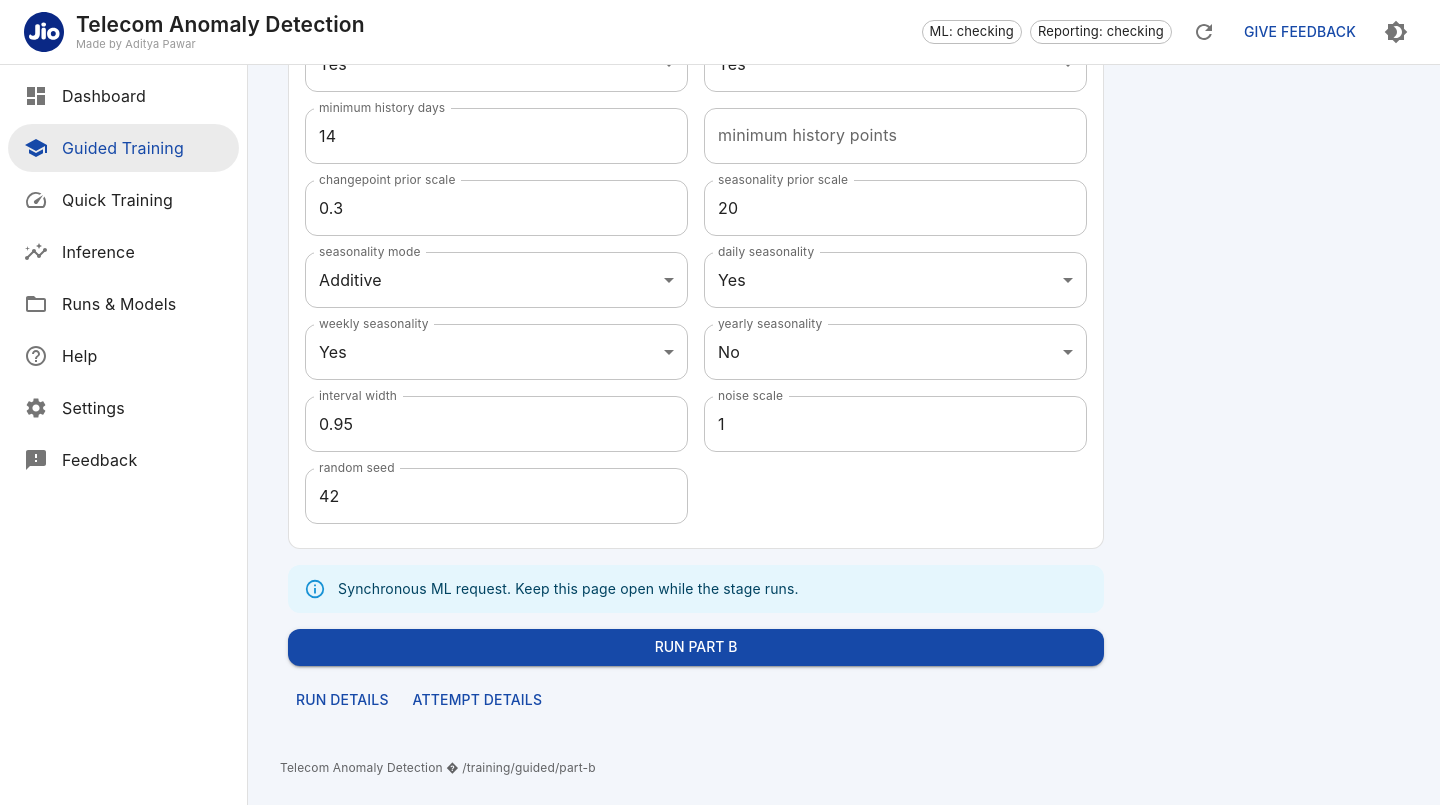
it: Part B workspace › does not continue after an HTTP-success failed workflow
(page scrolled)
Click the button "Run Part B".
click(696, 647)  # box x1=288 y1=629 x2=1104 y2=666
(page scrolled)
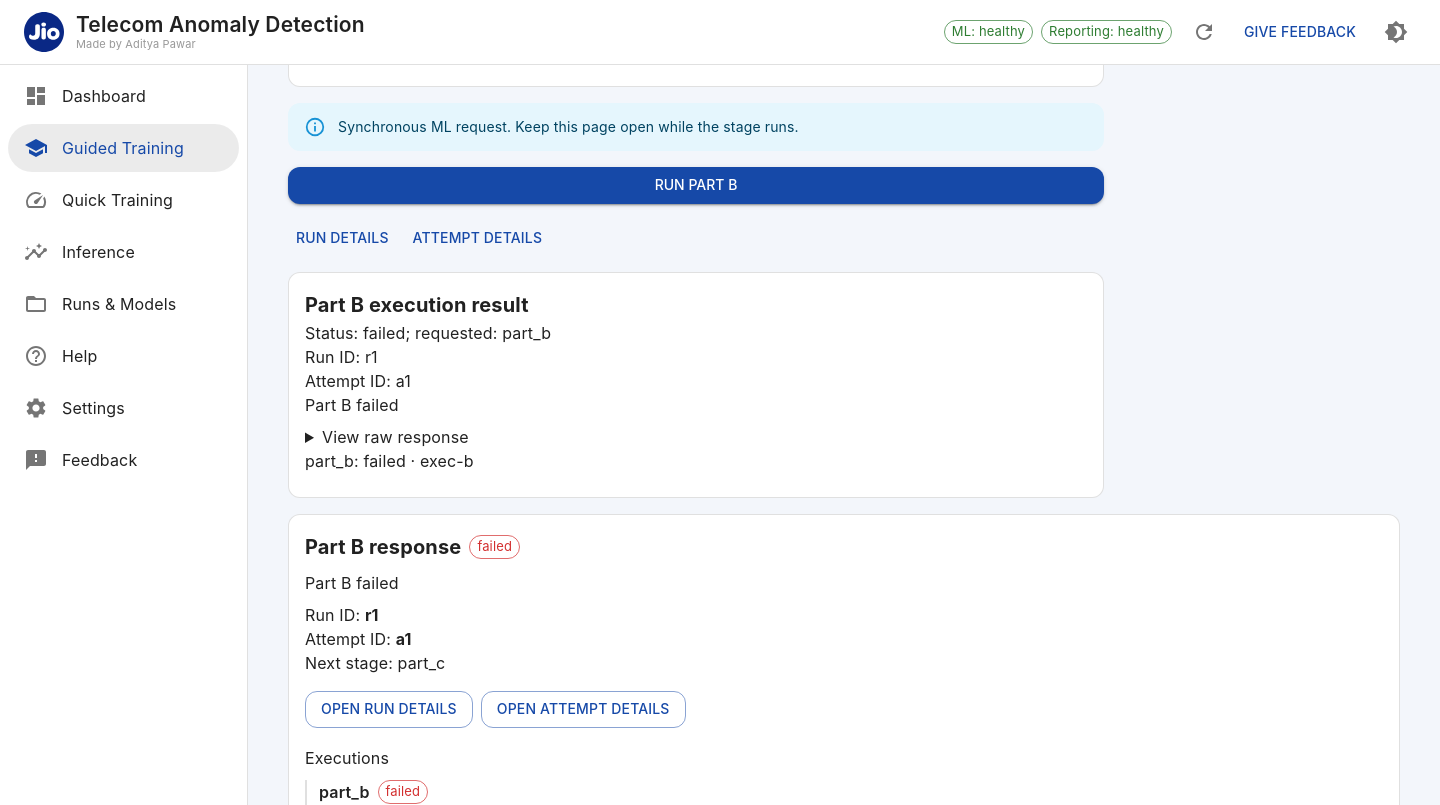
Now the text "Part B failed" below "Status:" is shown, box x1=305 y1=395 x2=399 y2=415
